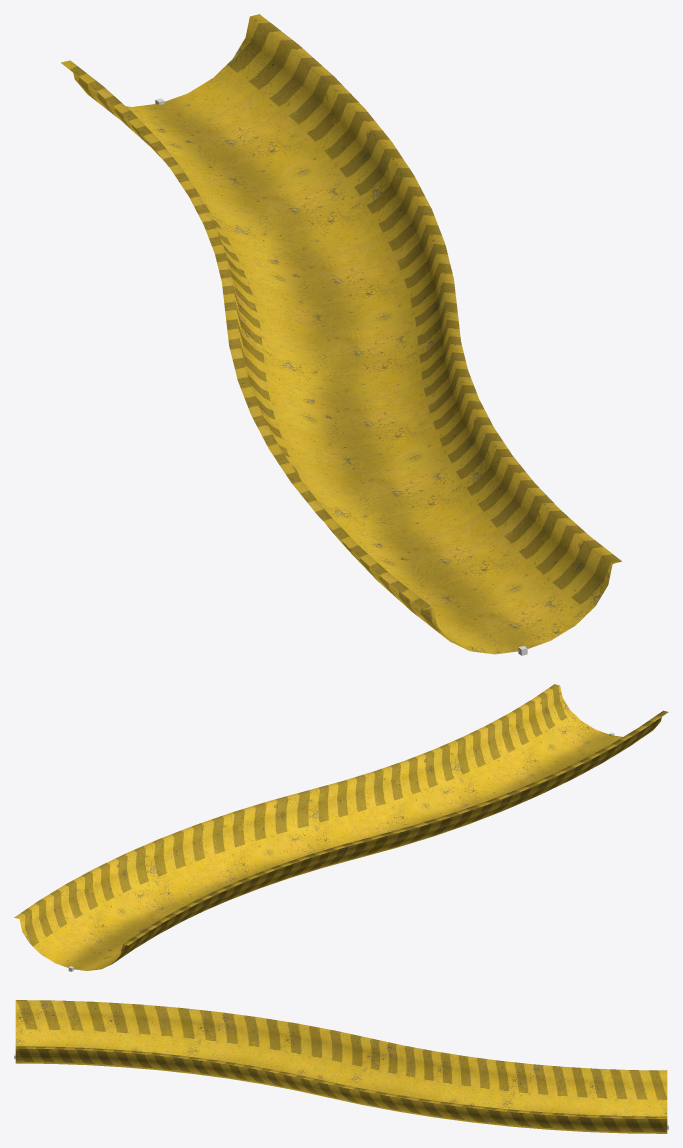
The model's file is roadShift.right2.fbx.
3 renders of one model, top to bottom at view 1: azimuth 30°, elevation 25°; view 2: azimuth 150°, elevation 25°; view 3: azimuth 270°, elevation 25°, orthographic. The views are drawn at different scales.
Parts seen in each view (by area): view 1: MESH roadShift.right2; view 2: MESH roadShift.right2; view 3: MESH roadShift.right2.
Boxes of the visible parts, <box> form: MESH roadShift.right2: <box>61,14,621,654</box>; MESH roadShift.right2: <box>14,684,668,970</box>; MESH roadShift.right2: <box>15,1000,667,1133</box>.
Size of what is drawn, in the model's own units: 4150 by 553 by 9650.
